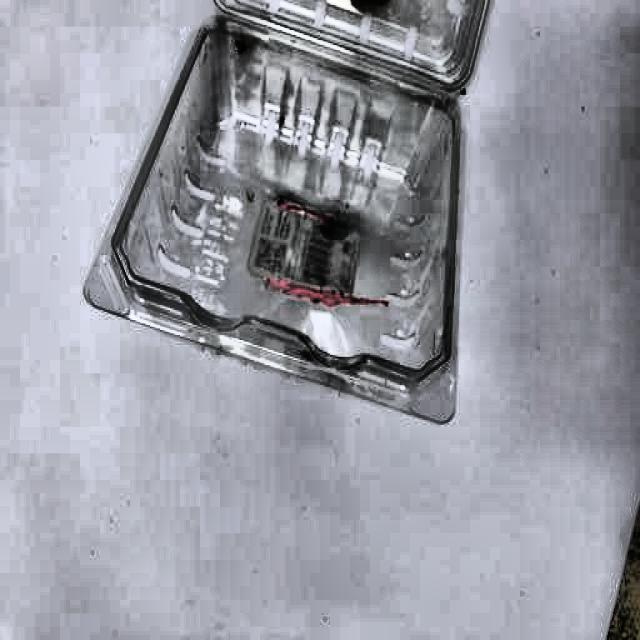plastic: (72, 0, 504, 395)
